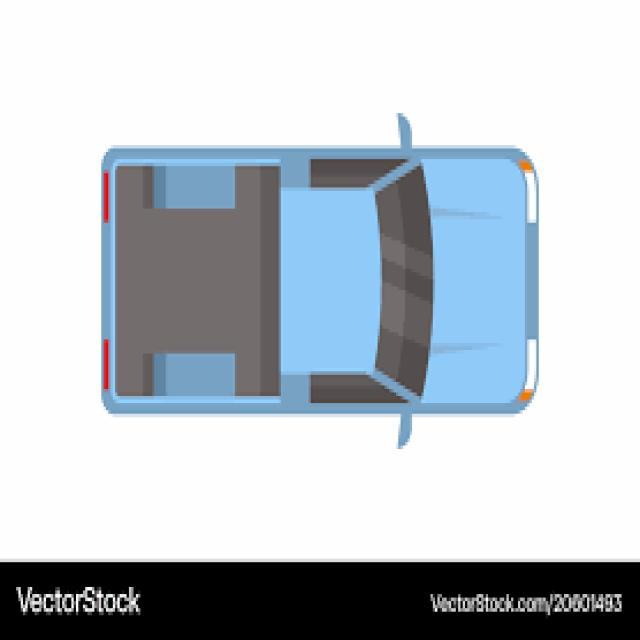truck: (100, 137, 538, 421)
